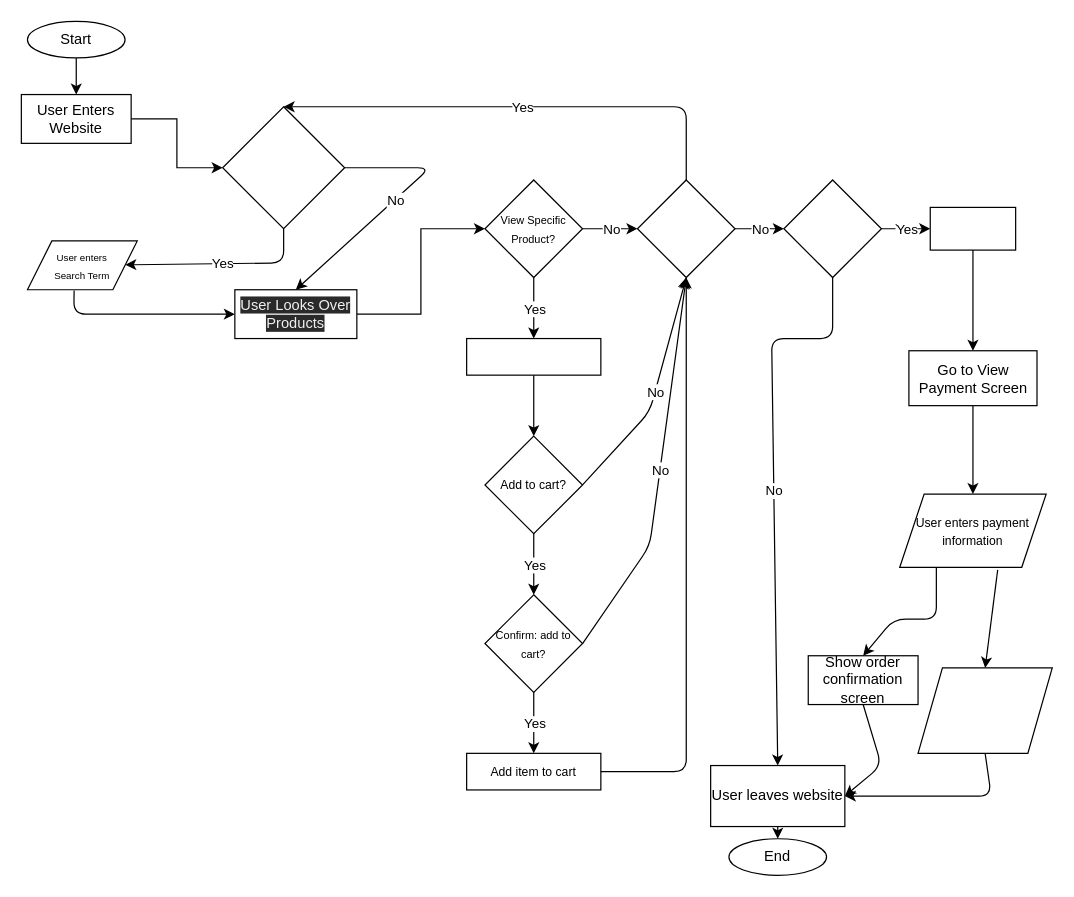
This 1074x897 diagram has some shape labels left out. Each missing label, with the centre of its shape:
Checkout?: the point at 832,228
Continue Shopping?: the point at 685,228
Go to view cart screen: the point at 972,228
Open specific product webpage: the point at 533,356
Send order confirmation email to user: the point at 984,710
User Searches for Product?: the point at 283,167
